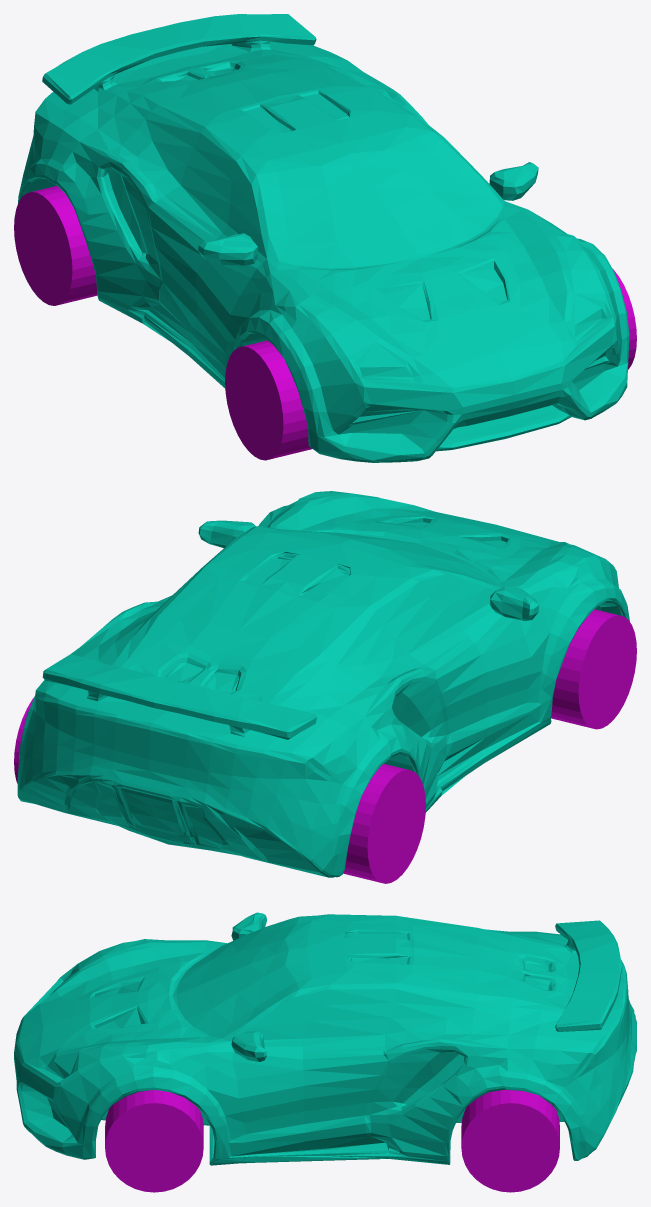
Rendered from synth_car.glb.
3 views of the same model, one above another, from view 1: azimuth 30°, elevation 25°; view 2: azimuth 150°, elevation 25°; view 3: azimuth 270°, elevation 25° (orthographic). The views are drawn at different scales.
Visible parts, largest first — view 1: Body, WheelFR, WheelRR, WheelFL; view 2: Body, WheelFR, WheelRR; view 3: Body, WheelRL, WheelFL.
Boxes of the visible parts, left/top/right/bottom form: Body: left=18, top=14, right=629, bottom=462; WheelFR: left=225, top=340, right=311, bottom=460; WheelRR: left=14, top=186, right=97, bottom=305; WheelFL: left=613, top=269, right=636, bottom=369; Body: left=17, top=491, right=629, bottom=877; WheelFR: left=551, top=609, right=636, bottom=729; WheelRR: left=343, top=764, right=425, bottom=883; Body: left=14, top=912, right=636, bottom=1165; WheelRL: left=461, top=1090, right=559, bottom=1192; WheelFL: left=105, top=1090, right=203, bottom=1192.
Bounding box in the file's own units: 2.79 × 1.55 × 5.05.
